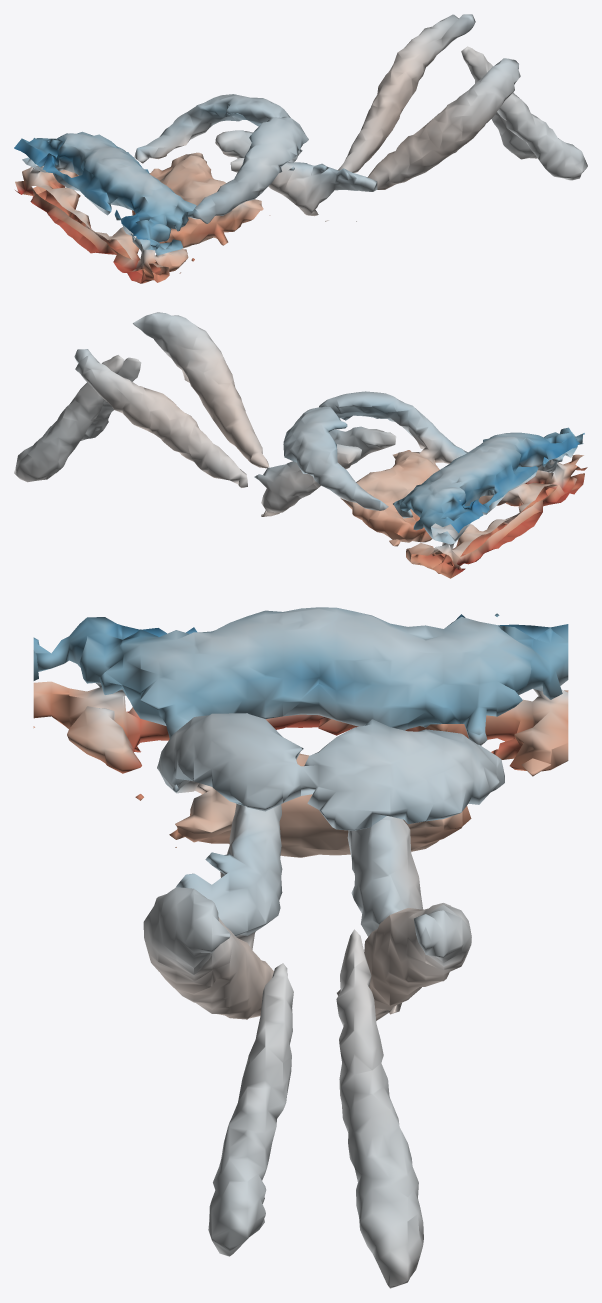
The picture shows the model from 3 angles, top to bottom: view 1: azimuth 30°, elevation 25°; view 2: azimuth 150°, elevation 25°; view 3: azimuth 270°, elevation 25°; orthographic projection. The views are drawn at different scales.
Size of the model in its own units: 5.27 by 1.56 by 2.5.
